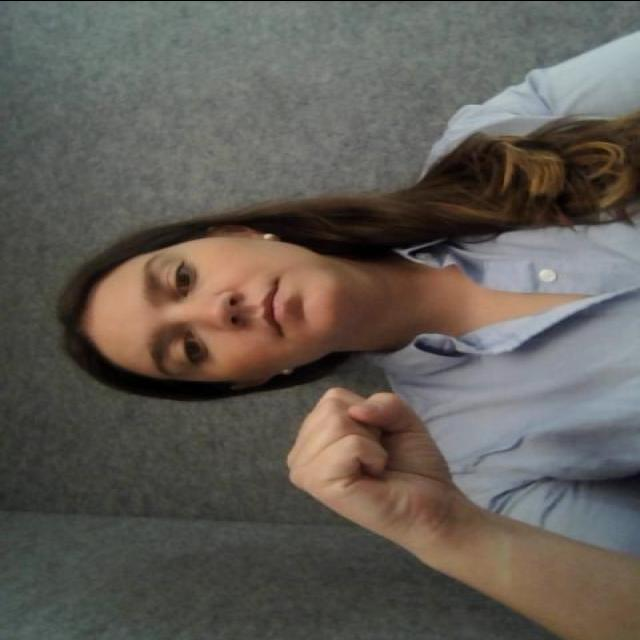Rock: (280, 373, 470, 547)
